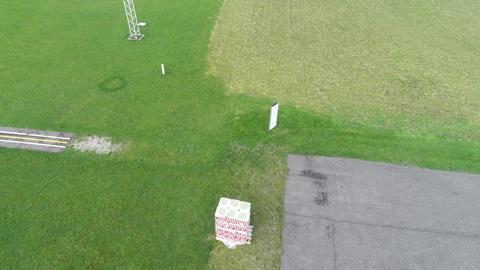RockwoolPallet: (213, 194, 252, 242)
